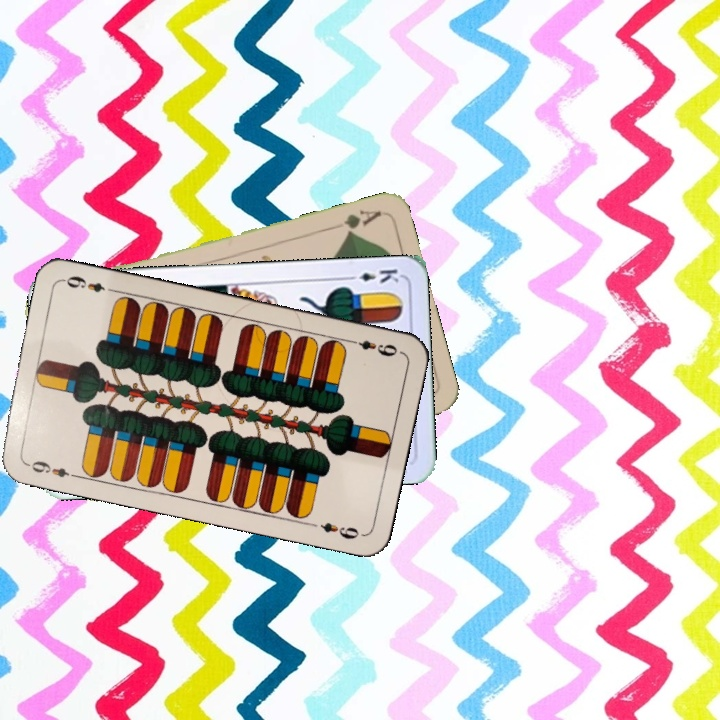E9: (22, 456, 80, 480), (344, 335, 400, 359)
EK: (342, 265, 401, 285)
GA: (326, 205, 384, 237)
